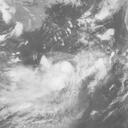cyclone: (31, 55, 92, 113)
